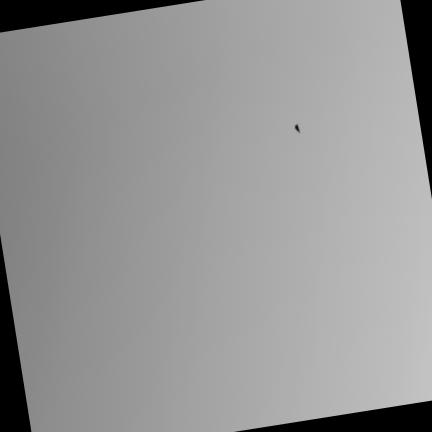Shahed: (295, 123, 300, 132)
